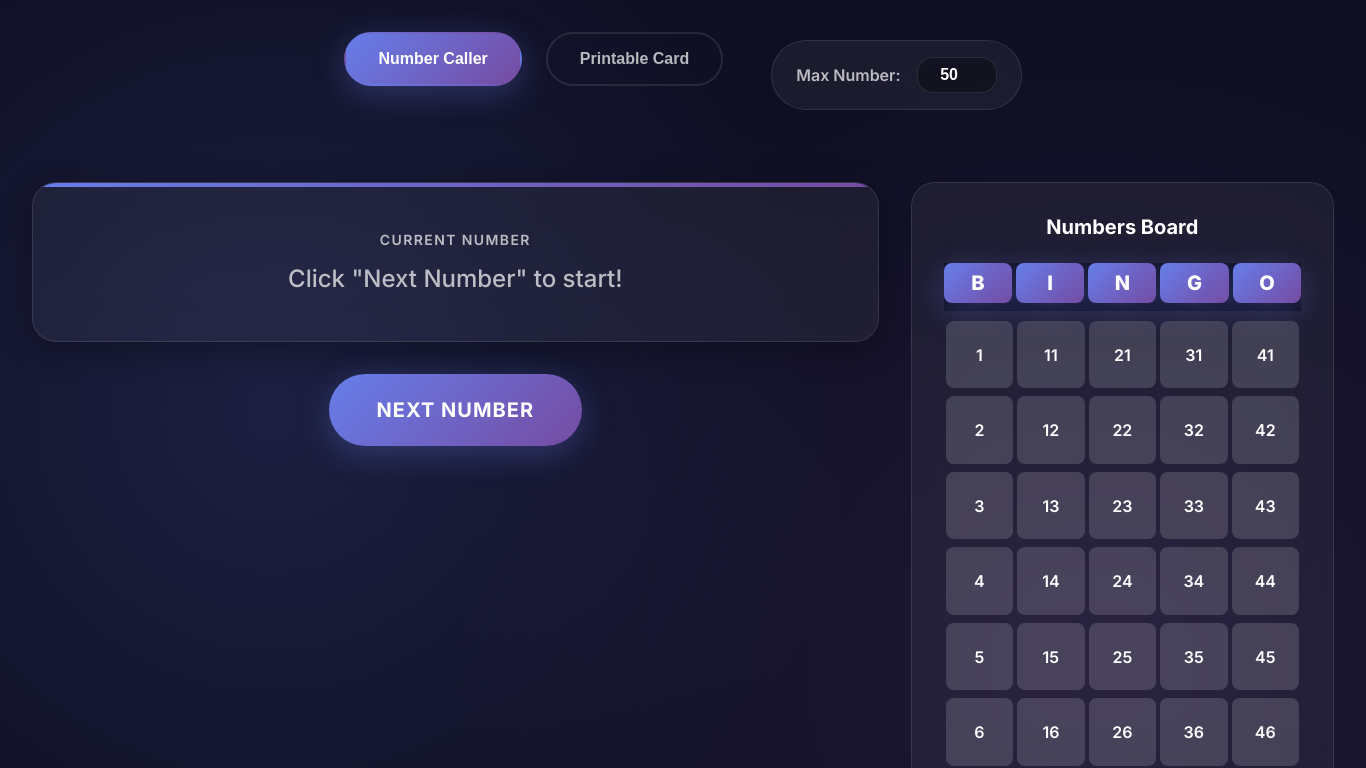
it: Bingo Components › switches tabs to Printable Card
This screenshot has width=1366, height=768.
Click the button "Printable Card" at (634, 59), box x1=546 y1=32 x2=723 y2=86
(page scrolled)
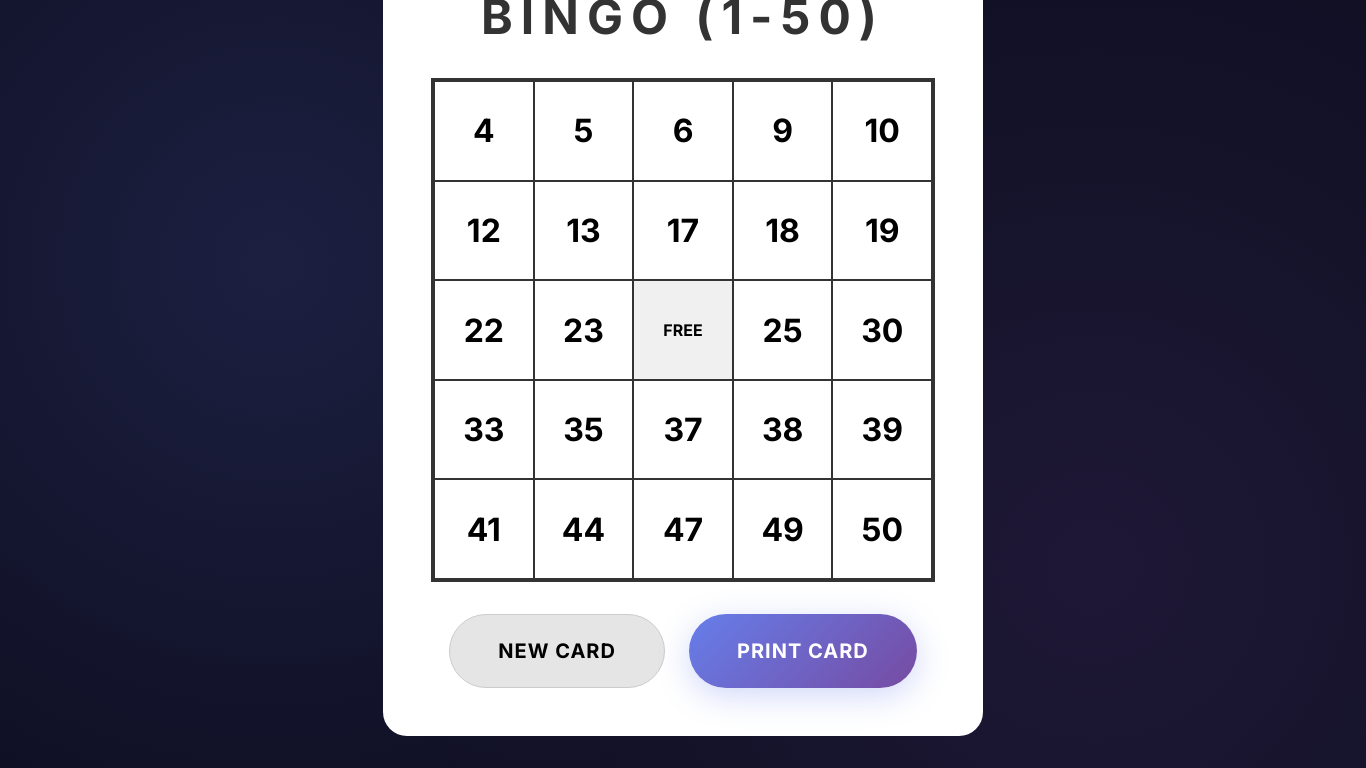
Result: the button "New Card" is shown at x1=449 y1=614 x2=665 y2=688
